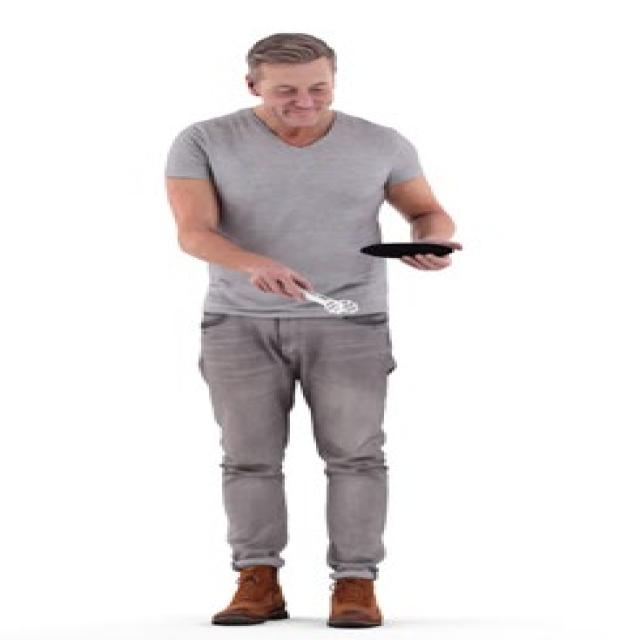standing: (162, 31, 464, 627)
